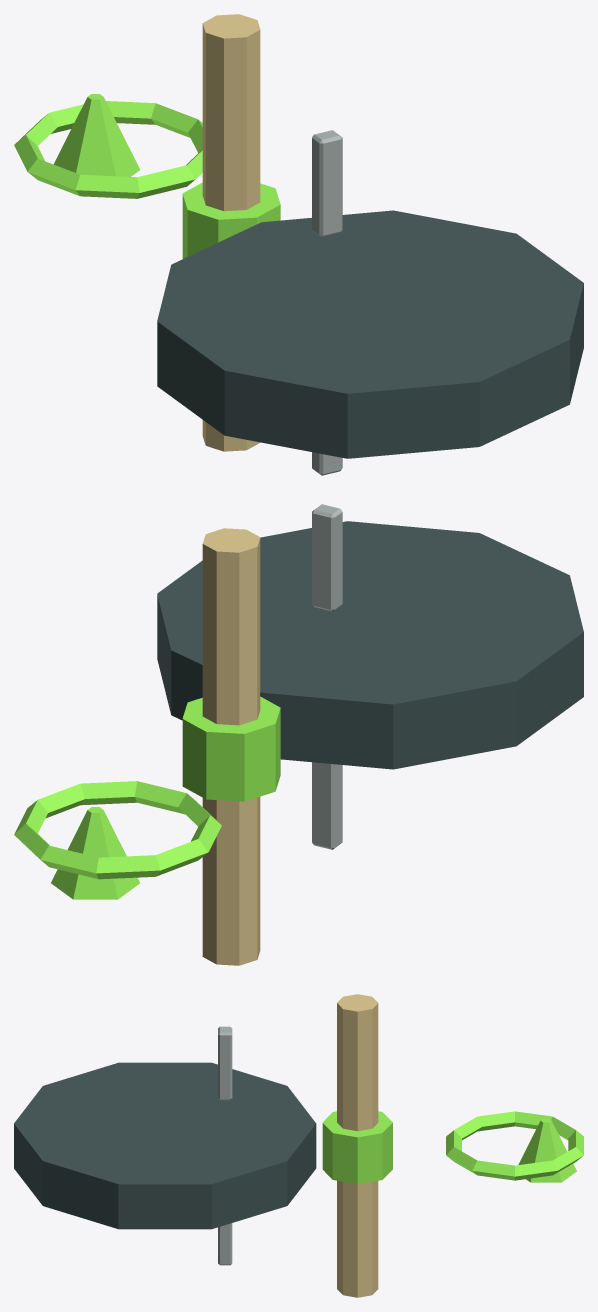
File: ExtractionBeacon.fbx
3 views of the same model, one above another, from view 1: azimuth 30°, elevation 25°; view 2: azimuth 150°, elevation 25°; view 3: azimuth 270°, elevation 25° (orthographic). The views are drawn at different scales.
Parts seen in each view (by area): view 1: ExtractionBase, ExtractionMast, ExtractionRing, ExtractionCap, ExtractionCore, ExtractionFin.001; view 2: ExtractionBase, ExtractionMast, ExtractionRing, ExtractionCore, ExtractionCap, ExtractionFin.001, ExtractionFin.003; view 3: ExtractionBase, ExtractionMast, ExtractionRing, ExtractionCore, ExtractionCap, ExtractionFin.001, ExtractionFin.003.
Part boxes in pixels (x1=…): ExtractionBase: x1=157, y1=210, x2=583, y2=458; ExtractionMast: x1=202, y1=14, x2=260, y2=451; ExtractionRing: x1=14, y1=101, x2=202, y2=198; ExtractionCap: x1=53, y1=94, x2=140, y2=176; ExtractionCore: x1=182, y1=182, x2=280, y2=258; ExtractionFin.001: x1=312, y1=130, x2=342, y2=237; ExtractionBase: x1=157, y1=521, x2=583, y2=769; ExtractionMast: x1=202, y1=528, x2=260, y2=965; ExtractionRing: x1=14, y1=781, x2=221, y2=879; ExtractionCore: x1=182, y1=696, x2=280, y2=801; ExtractionCap: x1=51, y1=807, x2=139, y2=899; ExtractionFin.001: x1=312, y1=504, x2=342, y2=611; ExtractionFin.003: x1=312, y1=762, x2=342, y2=849; ExtractionBase: x1=14, y1=1062, x2=316, y2=1229; ExtractionMast: x1=337, y1=994, x2=378, y2=1297; ExtractionRing: x1=446, y1=1111, x2=583, y2=1180; ExtractionCore: x1=322, y1=1111, x2=392, y2=1184; ExtractionCap: x1=518, y1=1118, x2=576, y2=1182; ExtractionFin.001: x1=218, y1=1026, x2=232, y2=1100; ExtractionFin.003: x1=218, y1=1223, x2=232, y2=1265.
Bounding box in the file's own units: 278 × 305 × 551.
